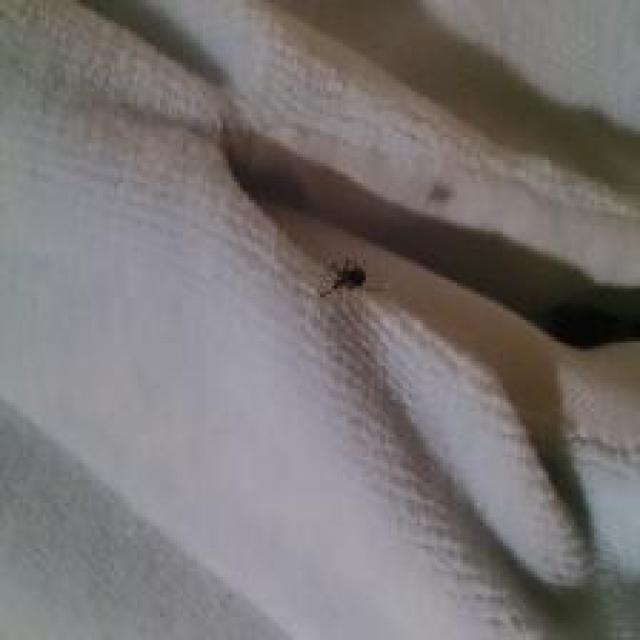Aedes albopictus: (316, 254, 387, 300)
